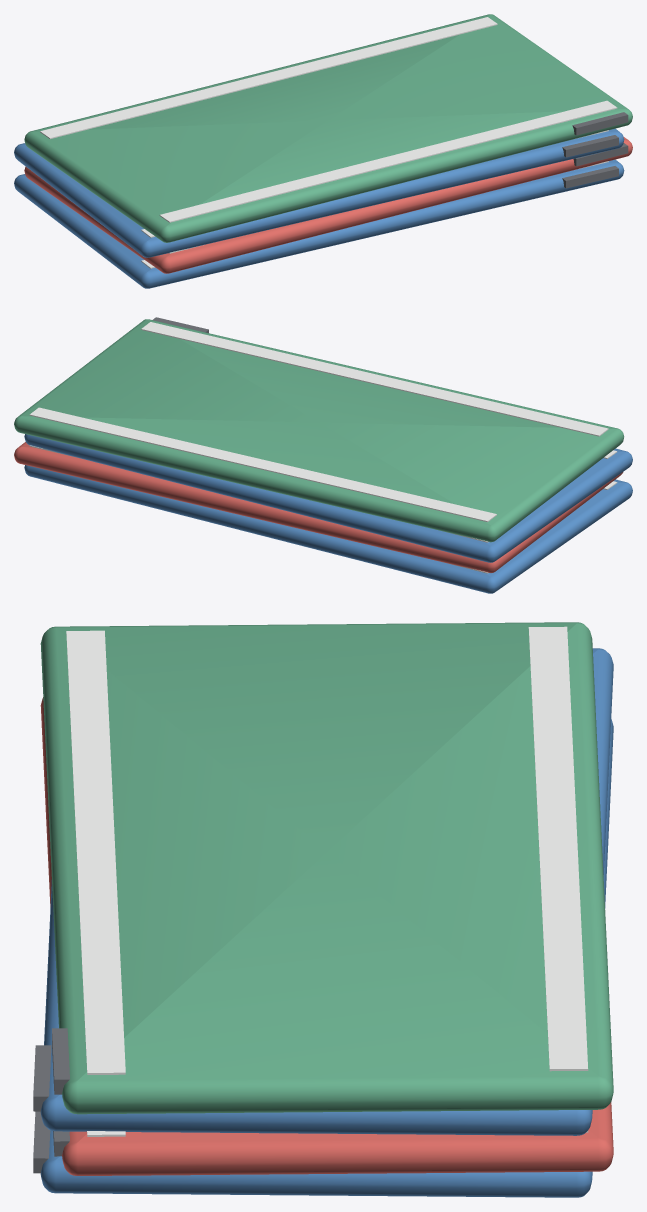
Rendered from community-sports-hall-and-changing-rooms-gym-mat-stack-d3bfc381.glb.
3 views of the same model, one above another, from view 1: azimuth 30°, elevation 25°; view 2: azimuth 150°, elevation 25°; view 3: azimuth 270°, elevation 25° (orthographic). The views are drawn at different scales.
Visible parts, largest first — view 1: gym-mat-stack; view 2: gym-mat-stack; view 3: gym-mat-stack.
Part boxes in pixels (x1,y1,x2,y2): gym-mat-stack: [14, 14, 632, 288]; gym-mat-stack: [14, 317, 632, 593]; gym-mat-stack: [33, 622, 613, 1197].
Bounding box in the file's own units: 2.06 × 0.254 × 1.05.
